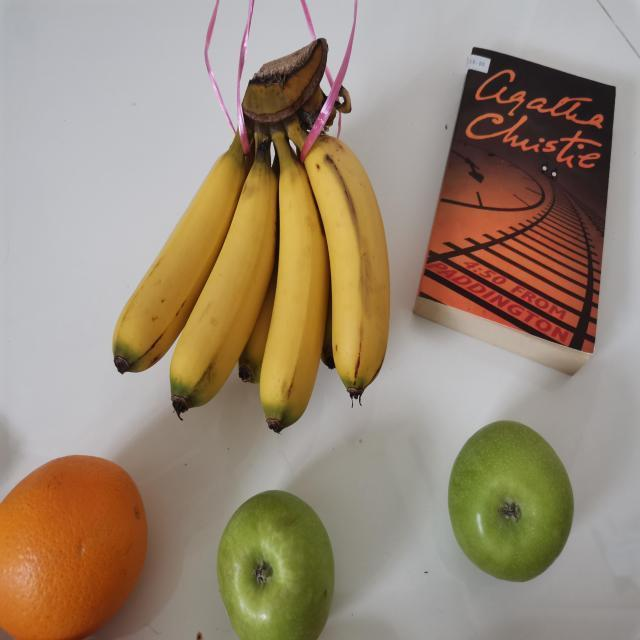Apple: (445, 418, 577, 586), (214, 485, 336, 640)
Banana: (108, 38, 394, 432)
Book: (410, 48, 619, 378)
Orange: (0, 456, 148, 639)
